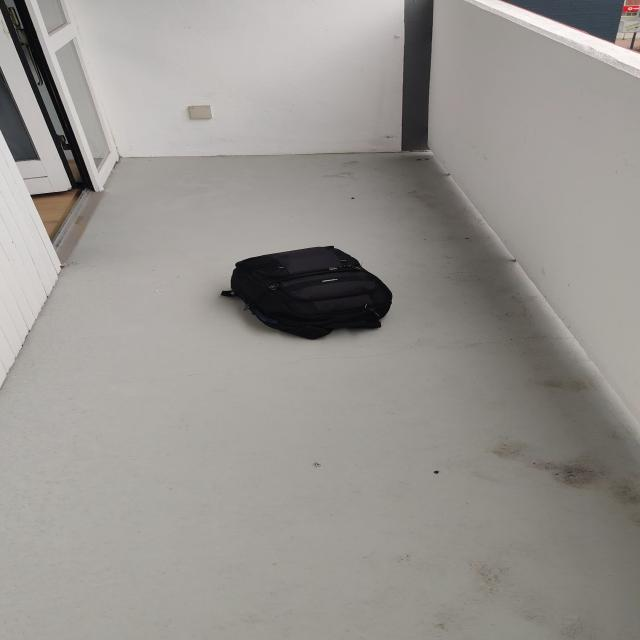backpack: (219, 243, 401, 338)
